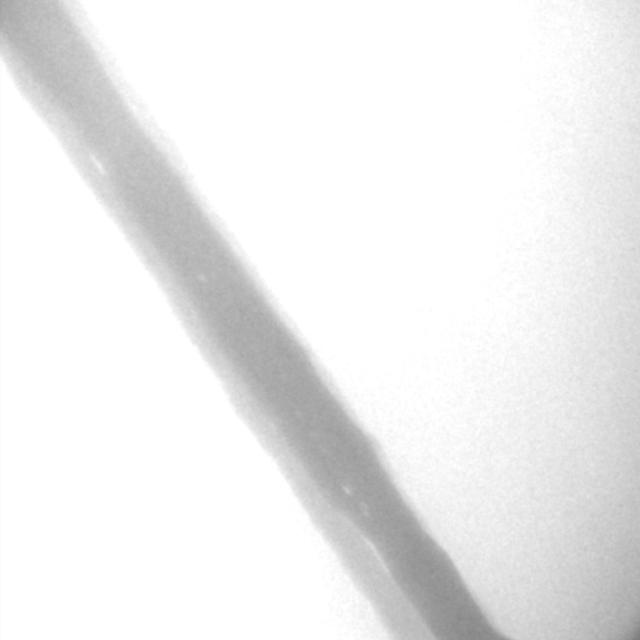air hole: (88, 153, 104, 174), (342, 483, 350, 495), (196, 272, 204, 283)
broken arc: (337, 512, 432, 636)
